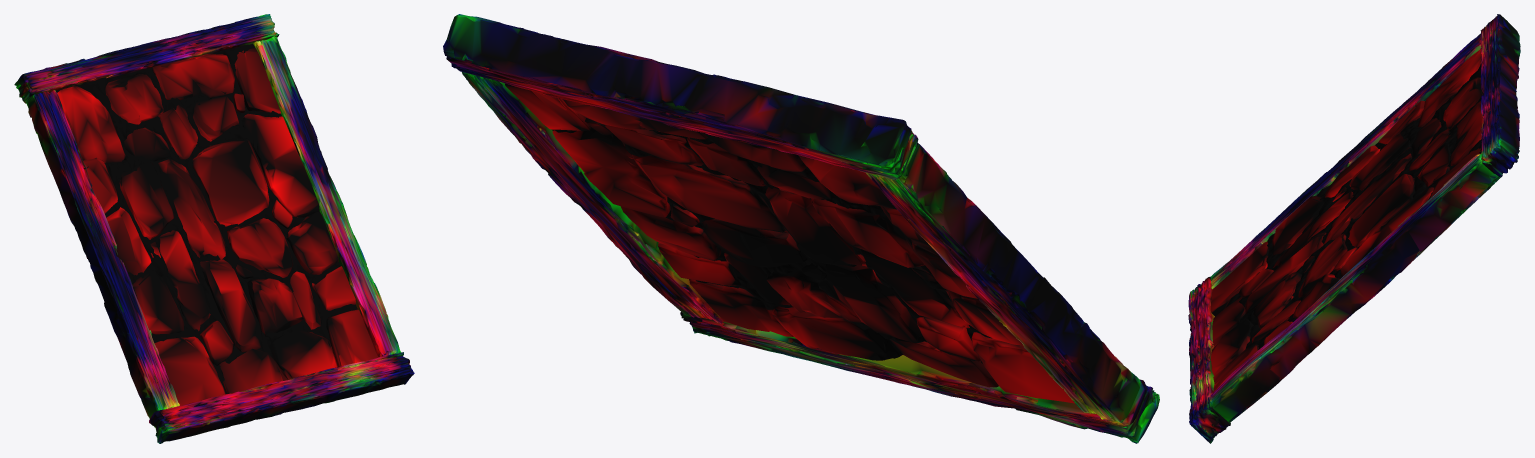
The model's file is SM_Stone_Ramp.fbx.
The picture shows the model from 3 angles, left to right: view 1: azimuth 30°, elevation 25°; view 2: azimuth 150°, elevation 25°; view 3: azimuth 270°, elevation 25°; orthographic projection. The views are drawn at different scales.
Parts seen in each view (by area): view 1: SM_Stone_Ramp_LOD0; view 2: SM_Stone_Ramp_LOD0; view 3: SM_Stone_Ramp_LOD0.
Part boxes in pixels (box(x1,y1,x2,y2)): SM_Stone_Ramp_LOD0: box(14, 14, 414, 443); SM_Stone_Ramp_LOD0: box(443, 14, 1159, 443); SM_Stone_Ramp_LOD0: box(1188, 14, 1520, 443).
Size of the model in its own units: 309 by 323 by 321.
